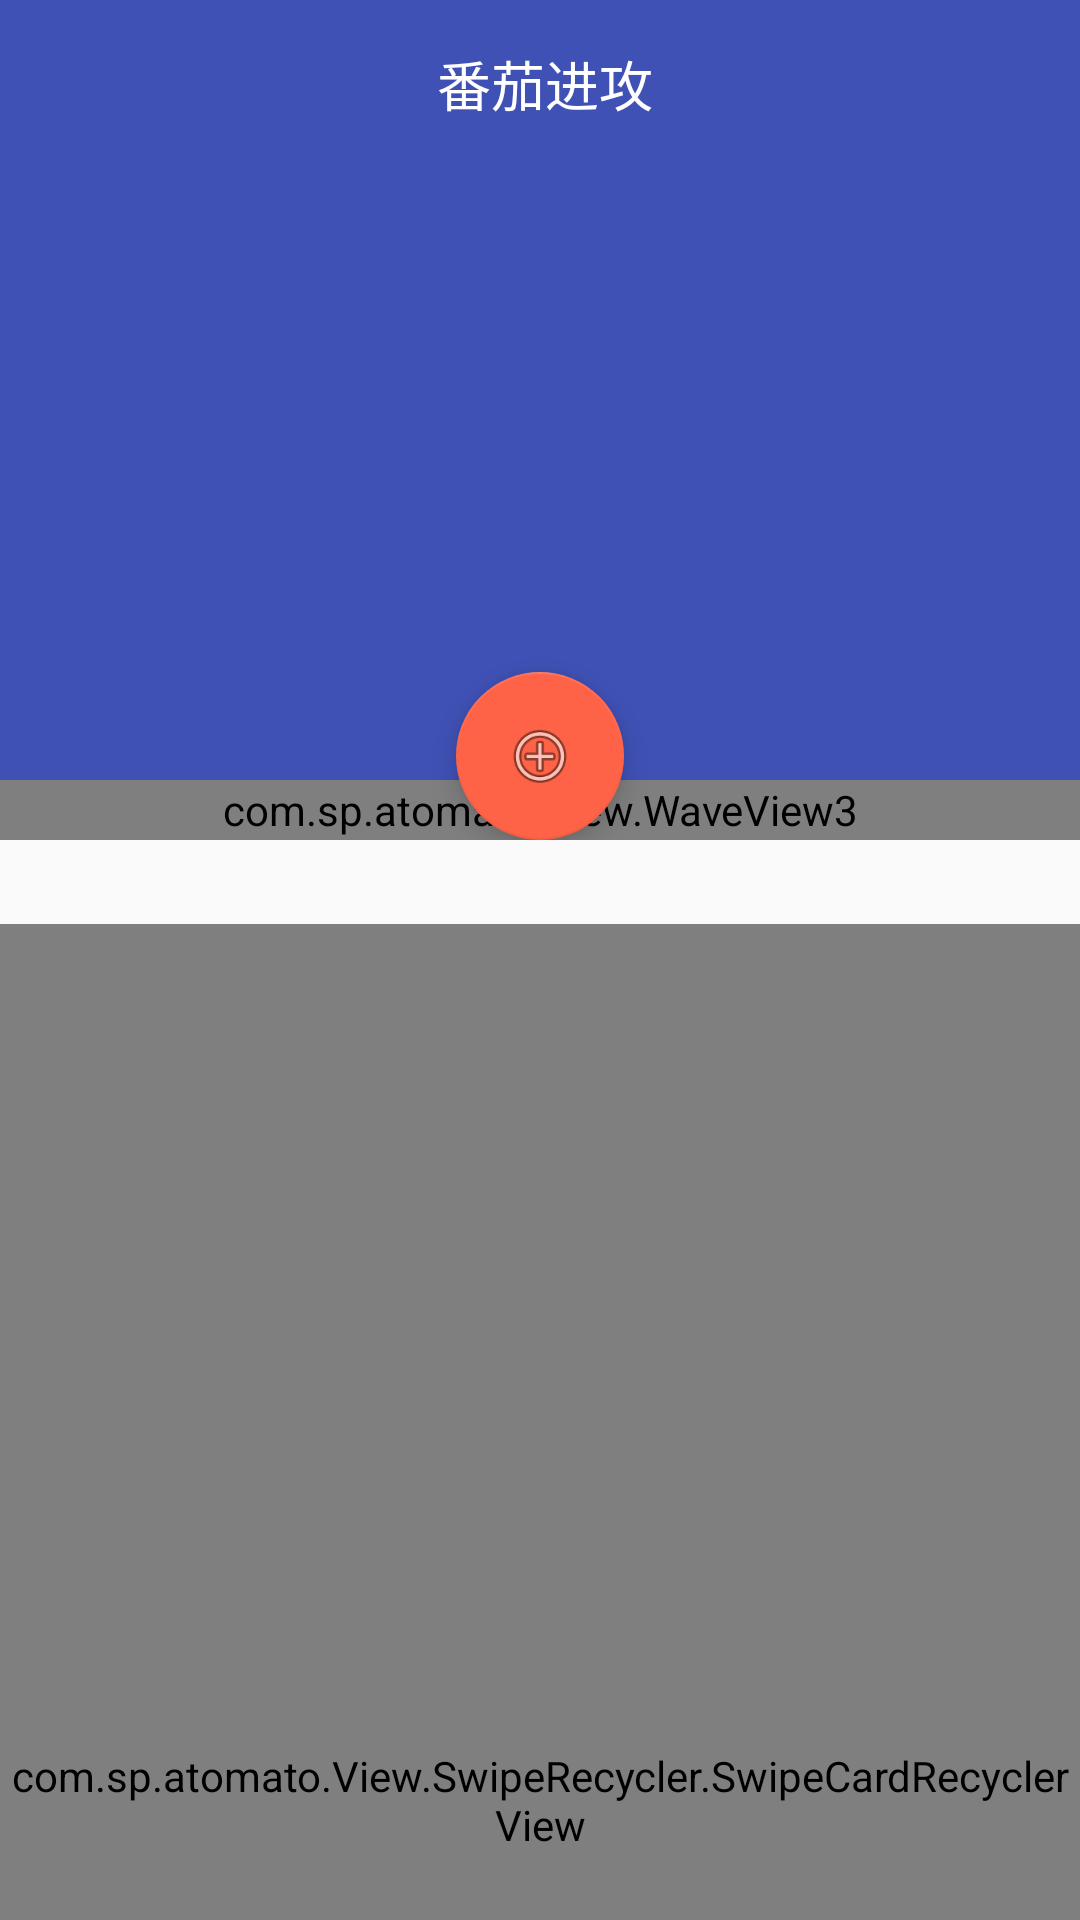

Point at icon controls on the screen. Image size 1080 × 1920, points as [x,y].
add: [540,756]
